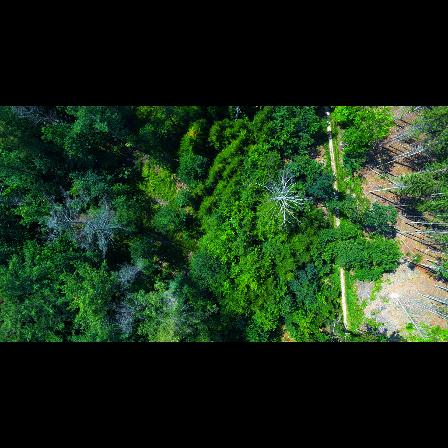Dead: (251, 163, 312, 228), (42, 198, 88, 242), (112, 257, 158, 293), (108, 297, 149, 337), (91, 206, 125, 248)
